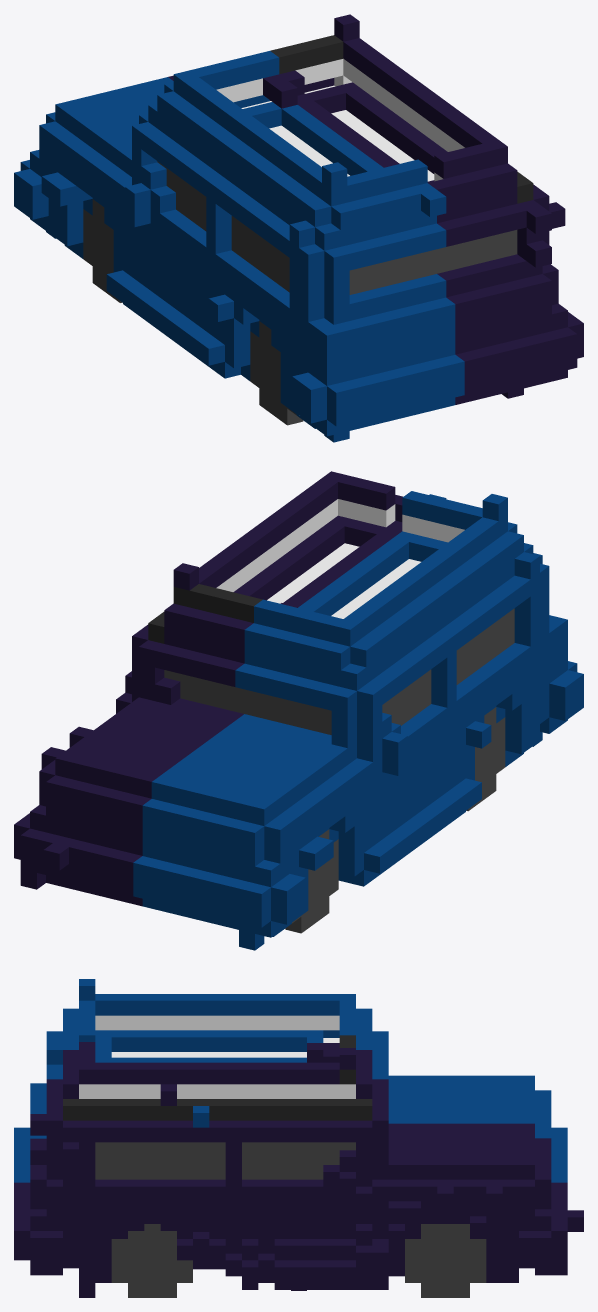
File: car_15.glb
3 renders of one model, top to bottom at view 1: azimuth 30°, elevation 25°; view 2: azimuth 150°, elevation 25°; view 3: azimuth 270°, elevation 25°, orthographic. The views are drawn at different scales.
Visible parts, largest first — view 1: ObjObject.007; view 2: ObjObject.007; view 3: ObjObject.007.
Part boxes in pixels (<box>): ObjObject.007: <box>14,14,583,442</box>; ObjObject.007: <box>14,471,583,950</box>; ObjObject.007: <box>14,979,583,1297</box>.
Bounding box in the file's own units: 1.7 × 1.6 × 3.5.
Materials: 1 (1 with a texture image).
